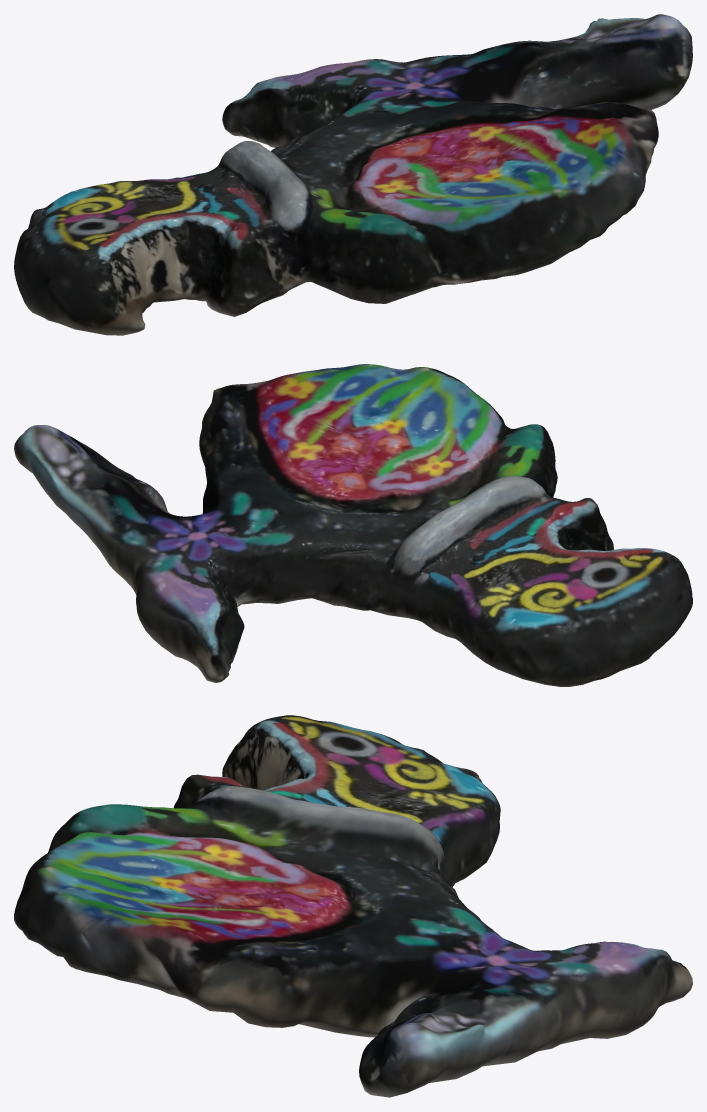
3 views of the same model, one above another, from view 1: azimuth 30°, elevation 25°; view 2: azimuth 150°, elevation 25°; view 3: azimuth 270°, elevation 25° (orthographic). The views are drawn at different scales.
Size of the model in its own units: 0.6933 by 0.1356 by 0.5202.
Materials: 1 (1 with a texture image).
